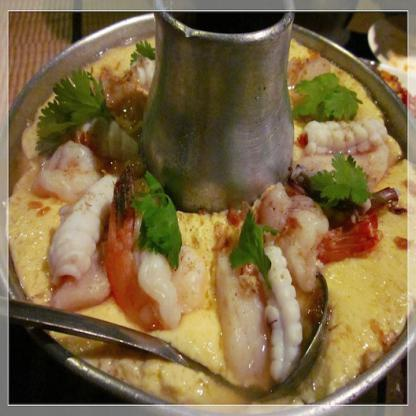Kaithoon: (1, 33, 406, 415)
